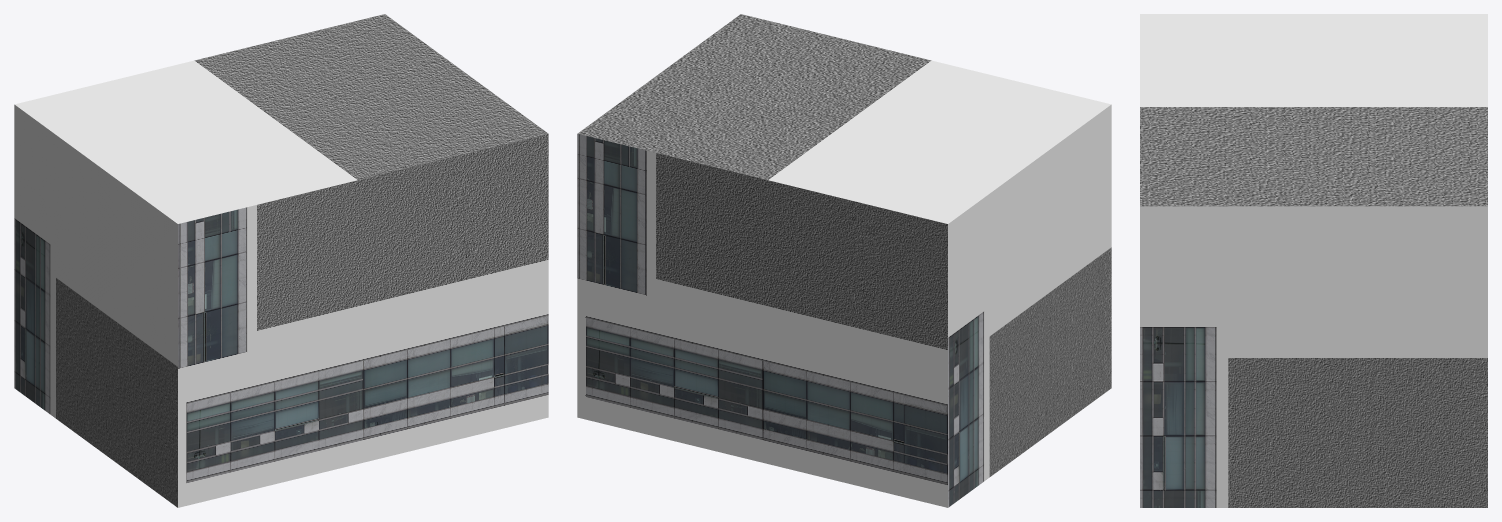
Rendered from SurroundBuildingstackable3.fbx.
The picture shows the model from 3 angles, left to right: view 1: azimuth 30°, elevation 25°; view 2: azimuth 150°, elevation 25°; view 3: azimuth 270°, elevation 25°; orthographic projection. The views are drawn at different scales.
Visible parts, largest first — view 1: SurroundBuildingstackable3; view 2: SurroundBuildingstackable3; view 3: SurroundBuildingstackable3.
Part boxes in pixels (box(x1,y1,x2,y2)): SurroundBuildingstackable3: box(14, 14, 548, 507); SurroundBuildingstackable3: box(577, 14, 1111, 507); SurroundBuildingstackable3: box(1140, 14, 1487, 507).
Bounding box in the file's own units: 3611 × 2642 × 2760.
